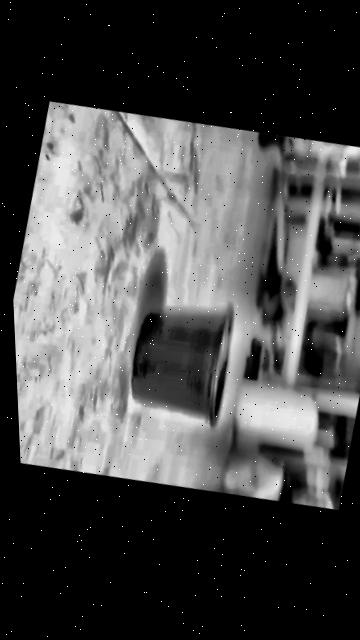pot: (120, 287, 246, 433)
